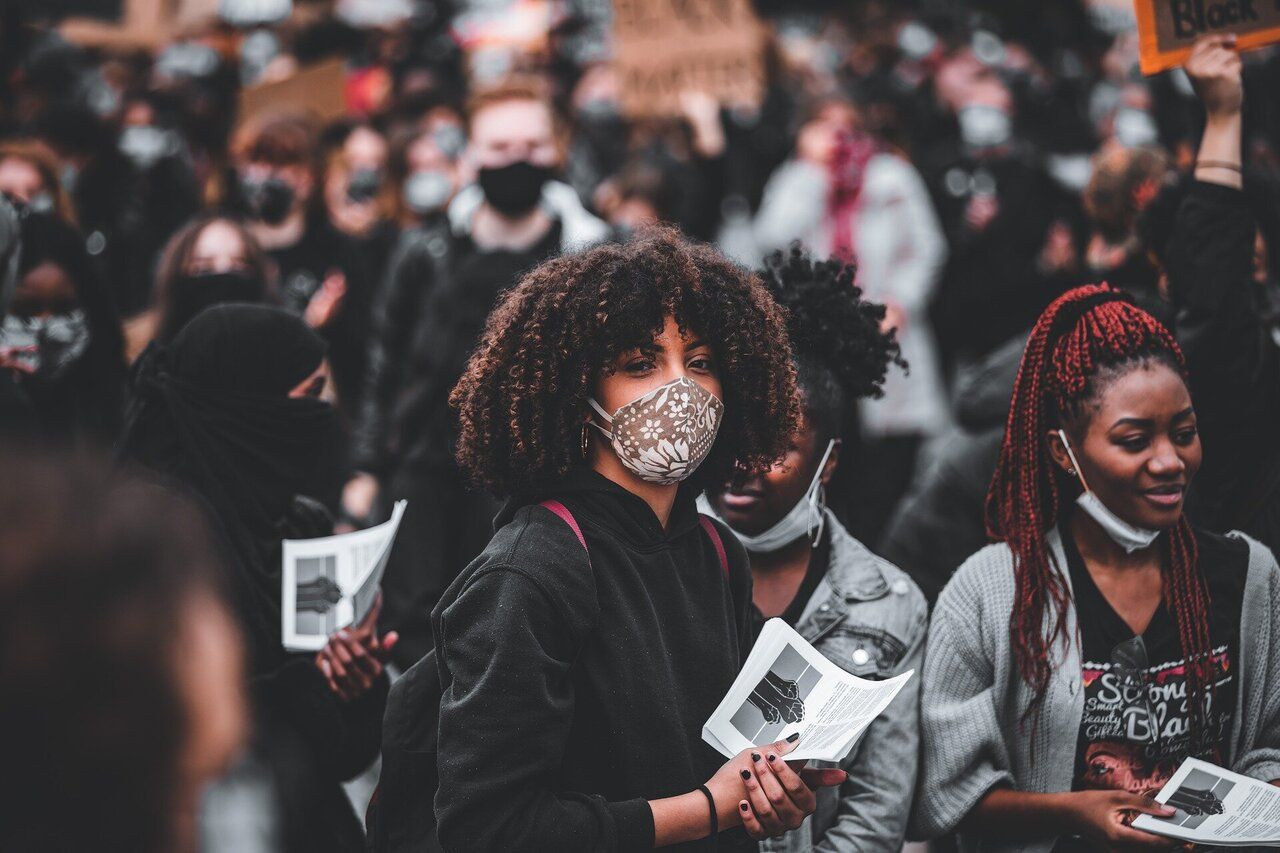with_mask: (623, 338, 723, 478)
without_mask: (1104, 401, 1205, 523)
